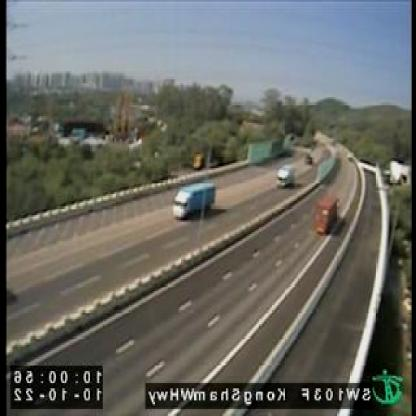Truck: (172, 178, 216, 218), (317, 195, 341, 234), (274, 165, 292, 185)
